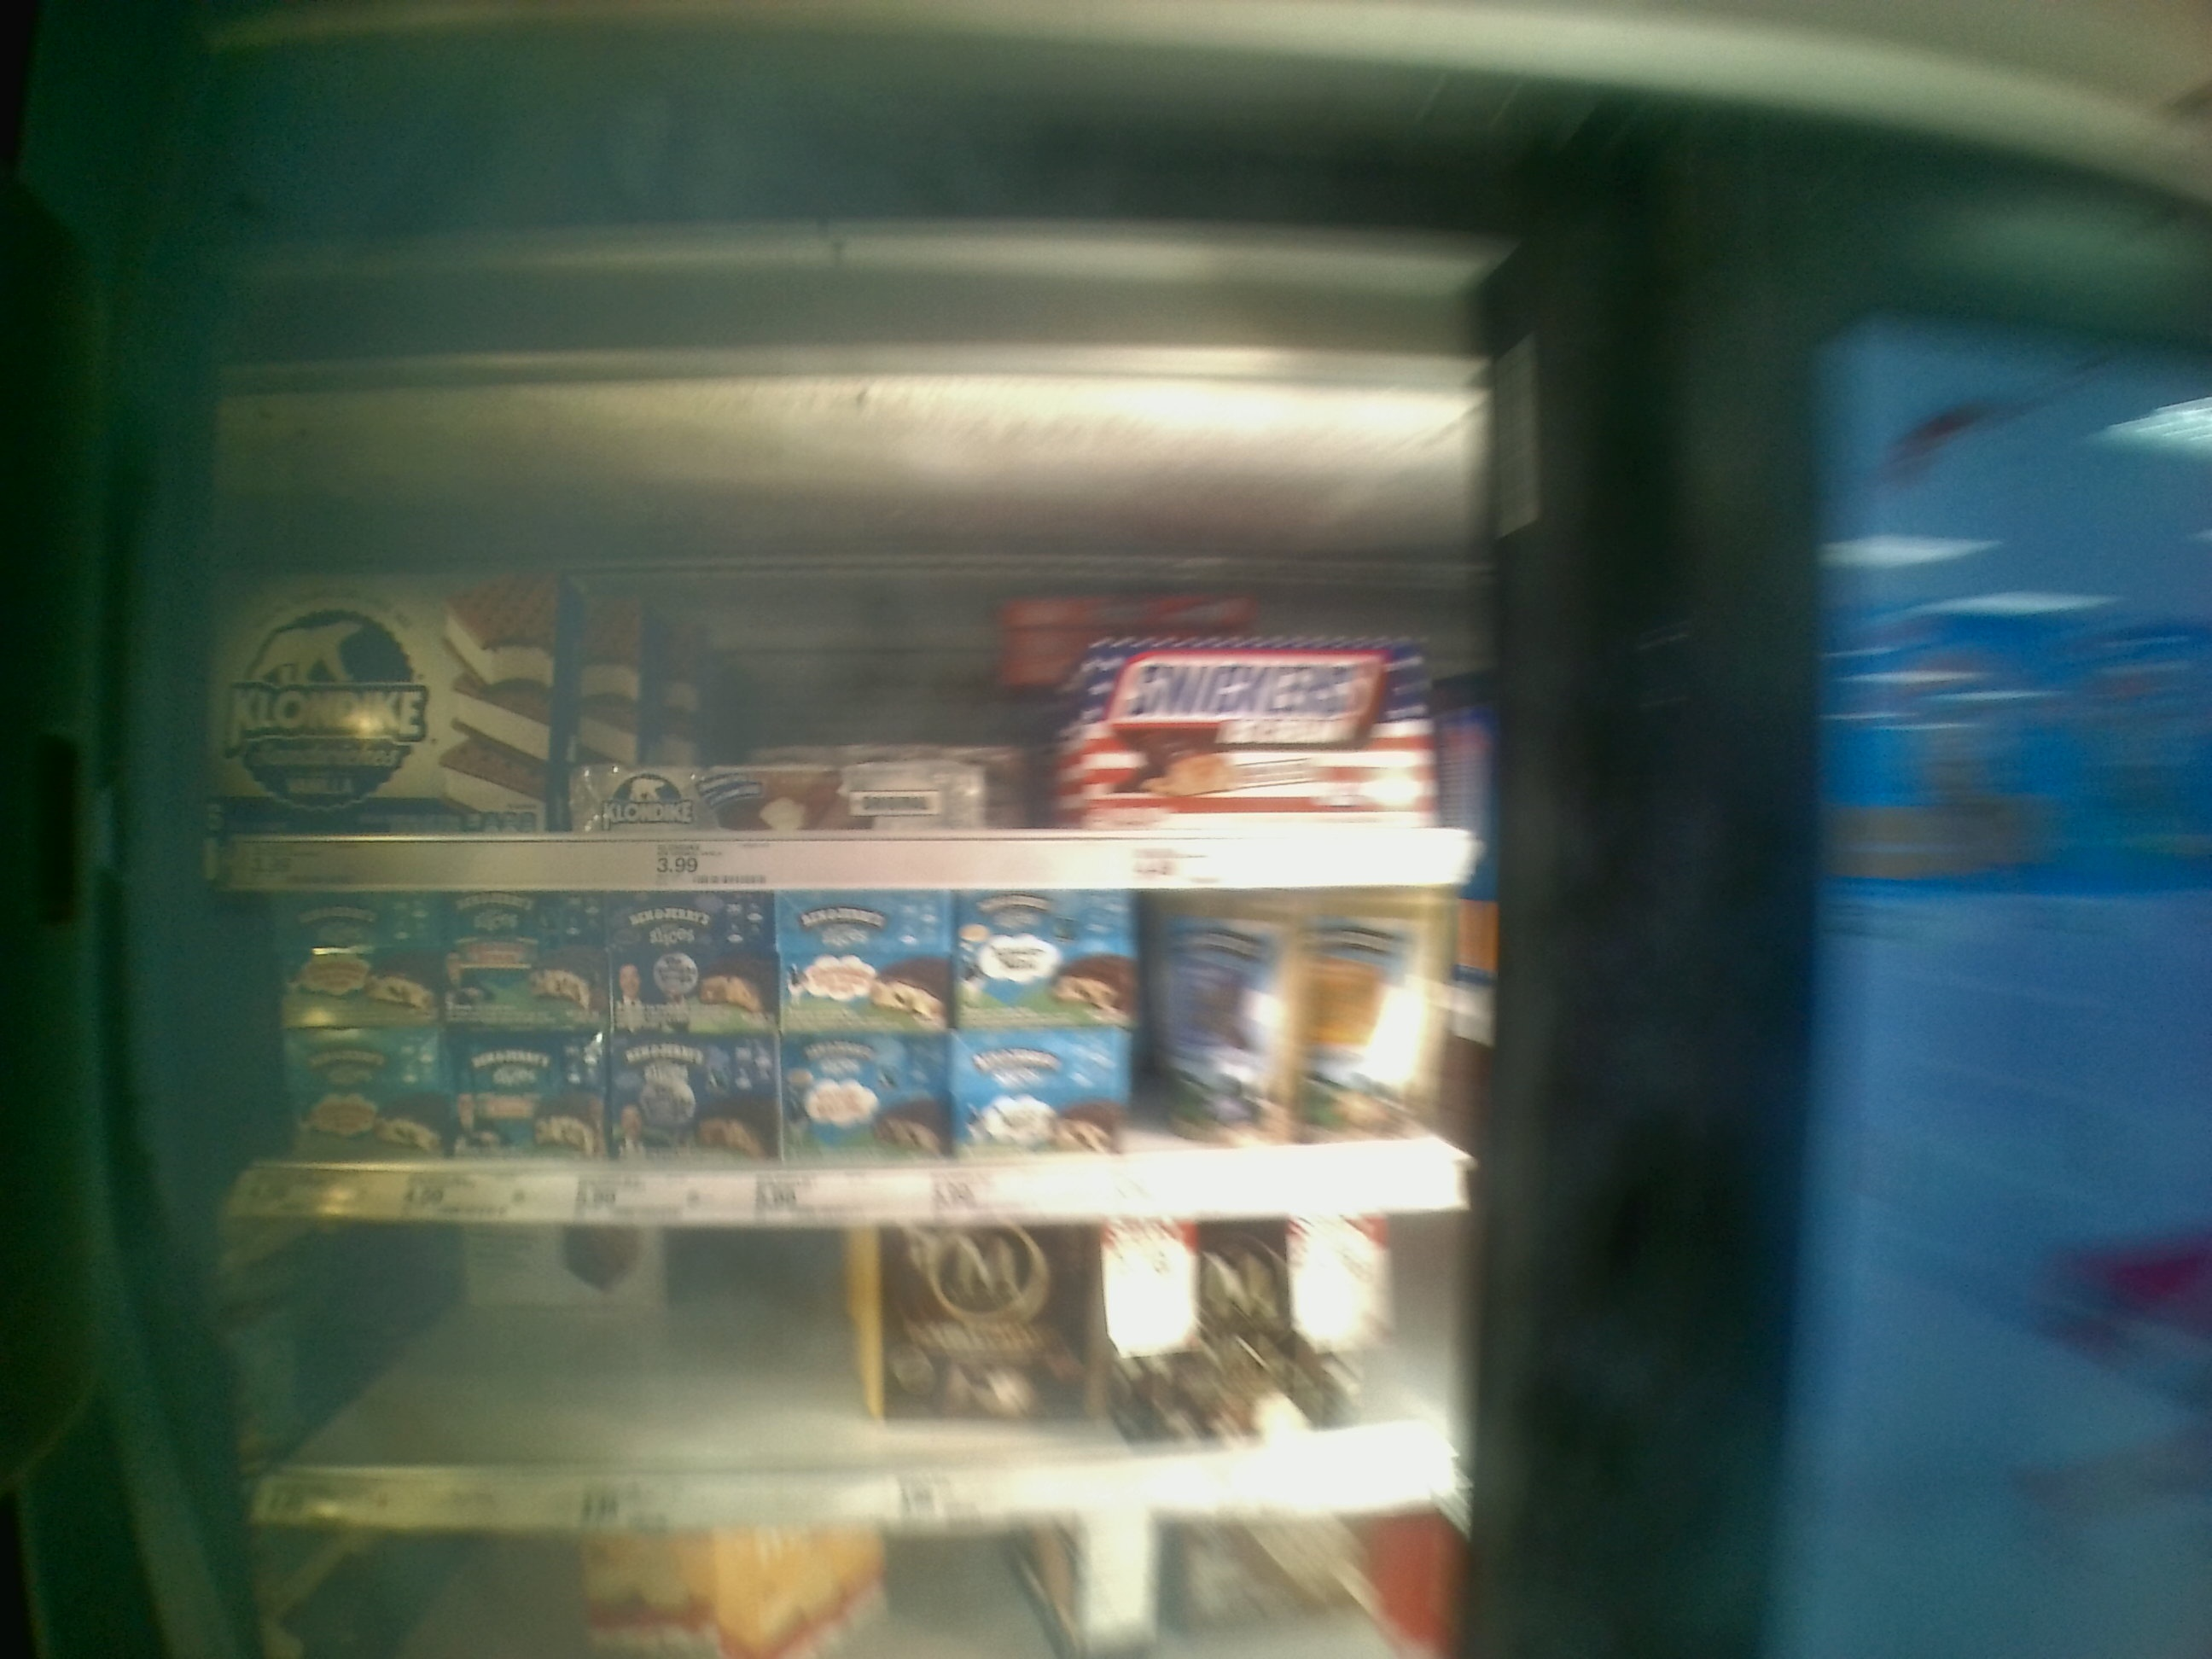ice-cream-shelf: (211, 403, 1491, 889), (209, 887, 1486, 1223), (211, 1218, 1486, 1516)
